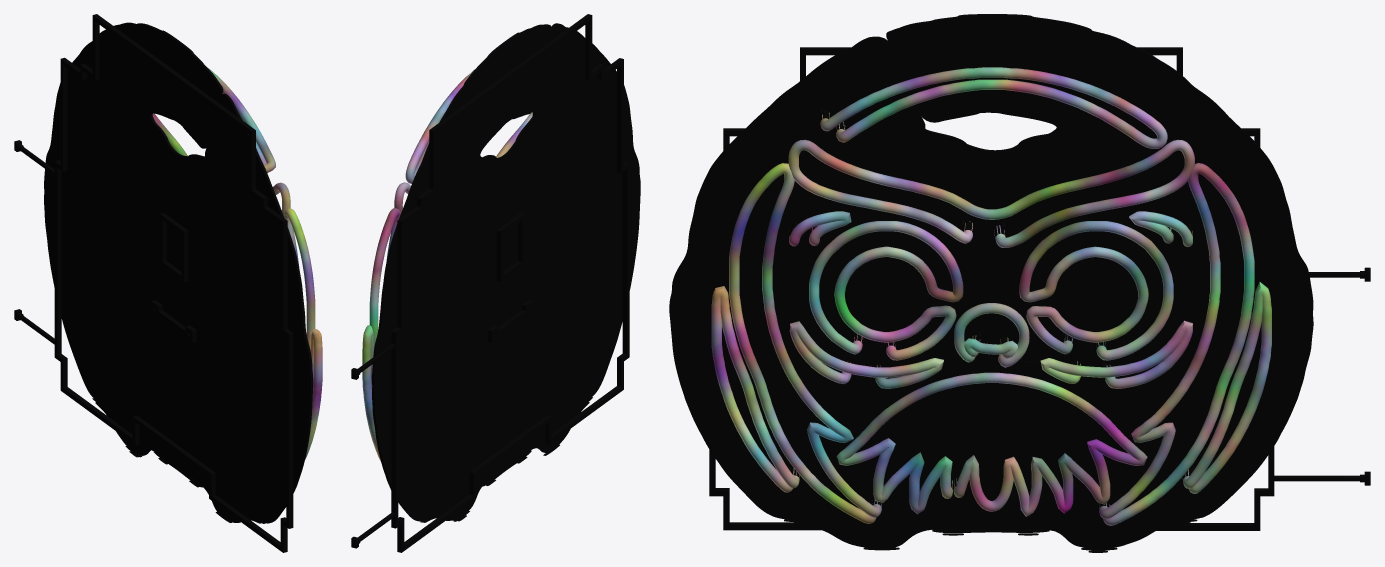
File: neonsign_11.fbx
3 views of the same model, side by side, from view 1: azimuth 30°, elevation 25°; view 2: azimuth 150°, elevation 25°; view 3: azimuth 270°, elevation 25° (orthographic). The views are drawn at different scales.
Visible parts, largest first — view 1: neonsign_11; view 2: neonsign_11; view 3: neonsign_11.
Boxes of the visible parts, bbox=[...] form: neonsign_11: bbox=[14, 14, 322, 552]; neonsign_11: bbox=[351, 14, 640, 552]; neonsign_11: bbox=[669, 14, 1370, 552].
Size of the model in its own units: 0.1667 by 1.94 by 2.29.
